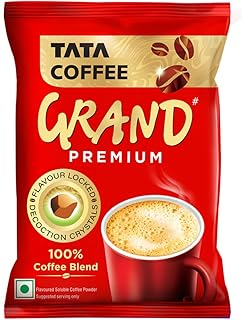Coffee: (4, 2, 234, 319)
